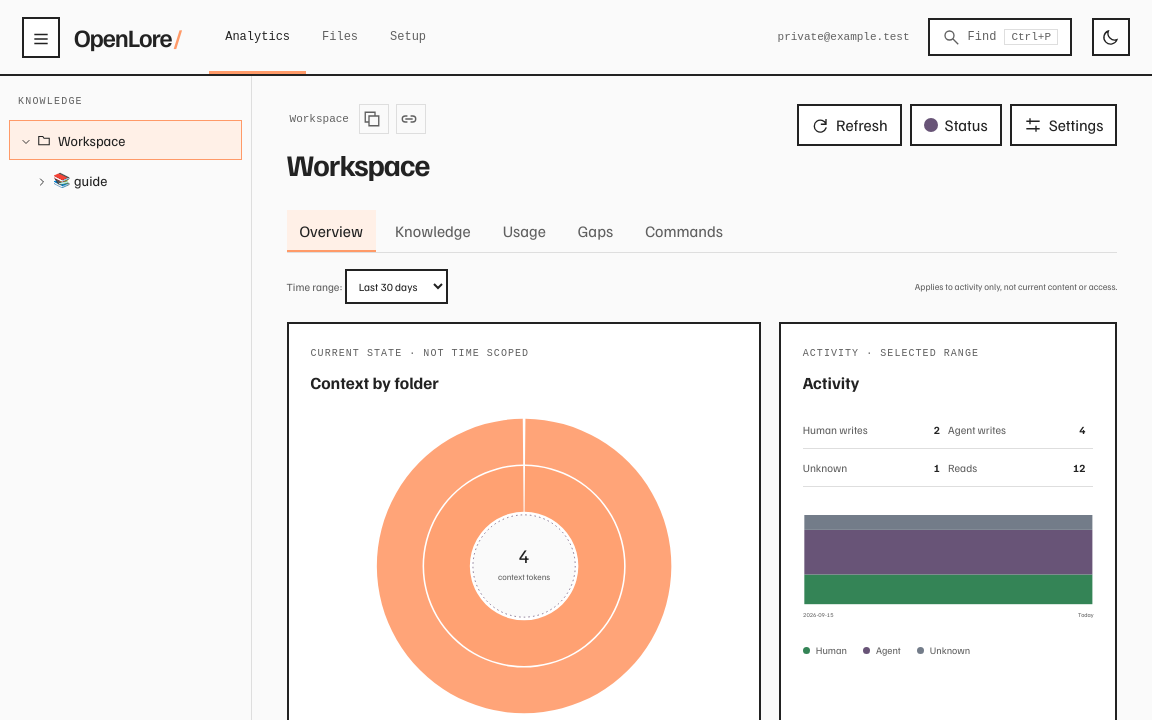
Test: ready but incomplete knowledge totals show their coverage
The width and height of the screenshot is (1152, 720).
What coordinates should you click on to do the following:
click the button with aria-label "Analytics status"
I would click on:
 (956, 125)
Its box is [910,104,1002,146].
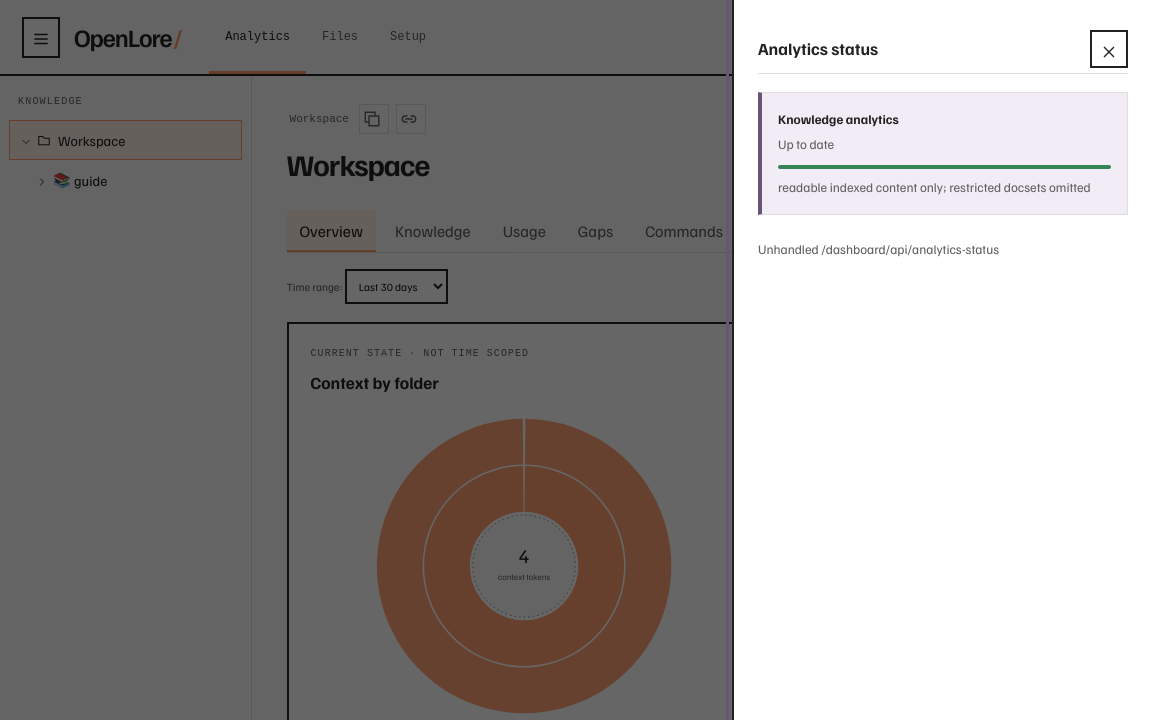
Expected: the text "readable indexed content only; restricted docsets omitted" is shown, [778,177,1111,198]
